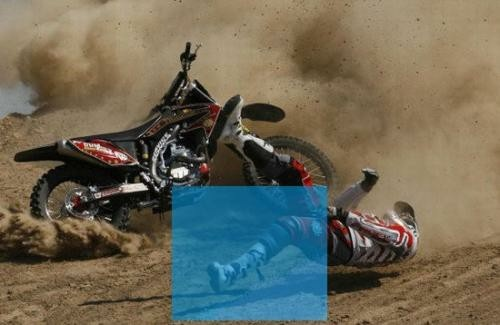falling: (185, 85, 426, 307)
